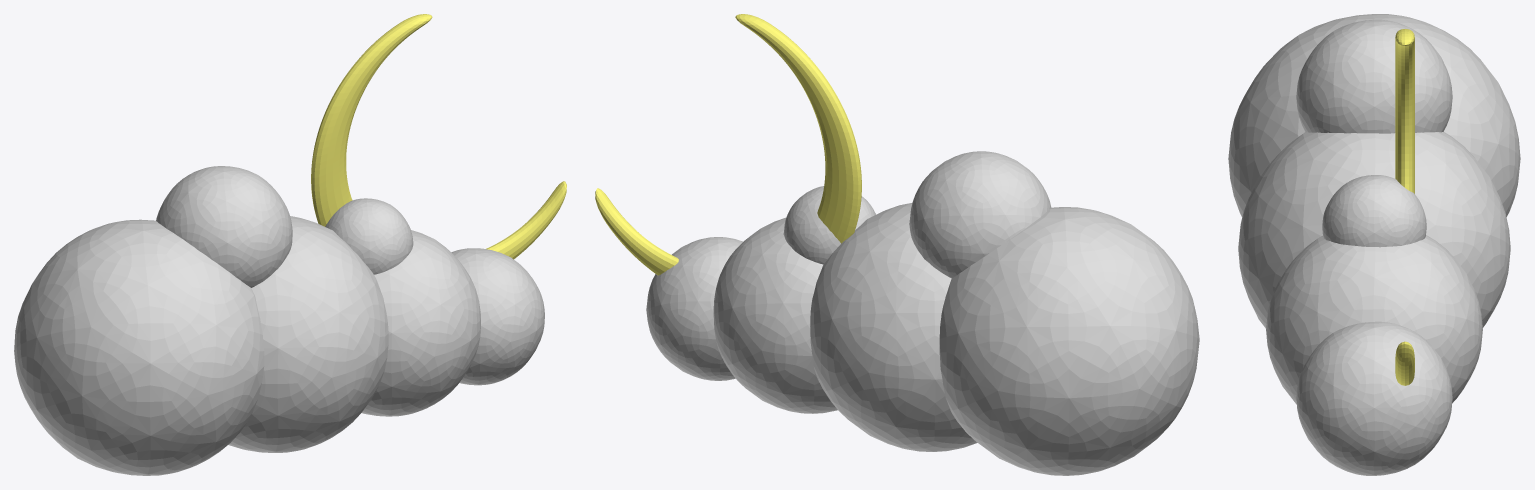
The model's file is cloudy night.fbx.
3 renders of one model, left to right at view 1: azimuth 30°, elevation 25°; view 2: azimuth 150°, elevation 25°; view 3: azimuth 270°, elevation 25°, orthographic. The views are drawn at different scales.
Parts seen in each view (by area): view 1: qw.010, Окружность.002; view 2: qw.010, Окружность.002; view 3: qw.010, Окружность.002.
Part boxes in pixels (x1,y1,x2,y2): qw.010: (14, 166, 544, 475); Окружность.002: (311, 14, 566, 259); qw.010: (646, 151, 1199, 475); Окружность.002: (595, 14, 861, 275); qw.010: (1228, 14, 1520, 475); Окружность.002: (1395, 29, 1414, 385).
Size of the model in its own units: 450 by 184 by 296.
